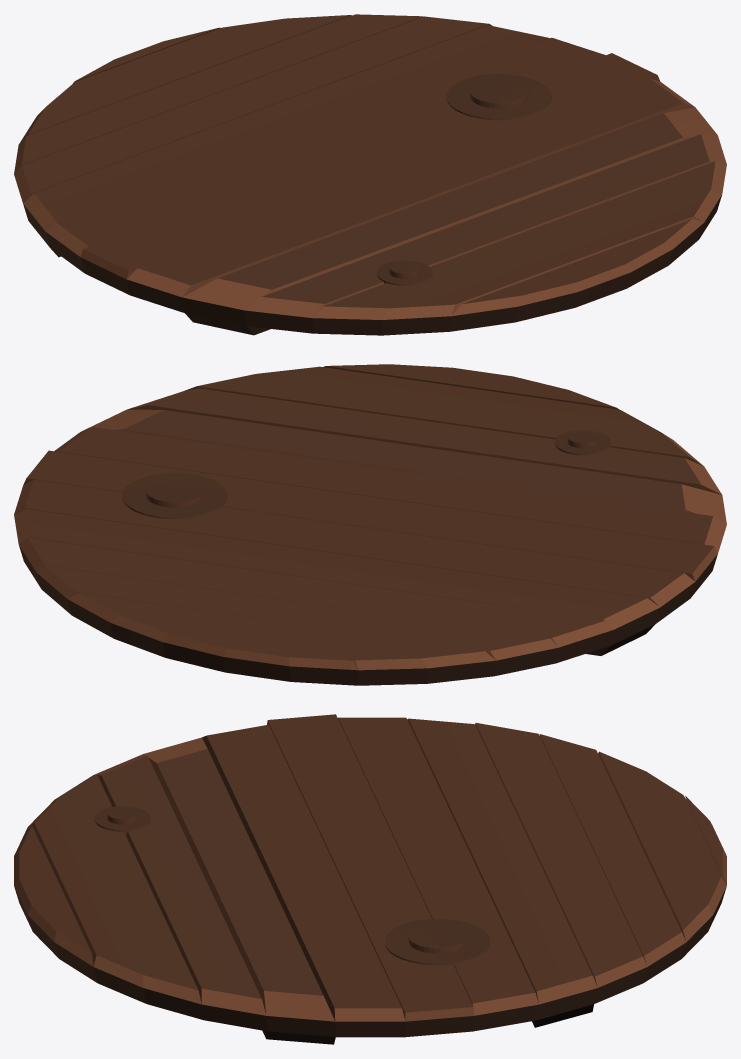
File: Large Dark Barrel Lid.fbx
3 views of the same model, one above another, from view 1: azimuth 30°, elevation 25°; view 2: azimuth 150°, elevation 25°; view 3: azimuth 270°, elevation 25° (orthographic).
Visible parts, largest first — view 1: Large Dark Barrel Lid; view 2: Large Dark Barrel Lid; view 3: Large Dark Barrel Lid.
Part boxes in pixels (bbox=[...]): Large Dark Barrel Lid: bbox=[14, 14, 726, 335]; Large Dark Barrel Lid: bbox=[14, 364, 726, 685]; Large Dark Barrel Lid: bbox=[14, 714, 726, 1044].
Size of the model in its own units: 21.12 by 308 by 308.
Materials: 1 (1 with a texture image).
